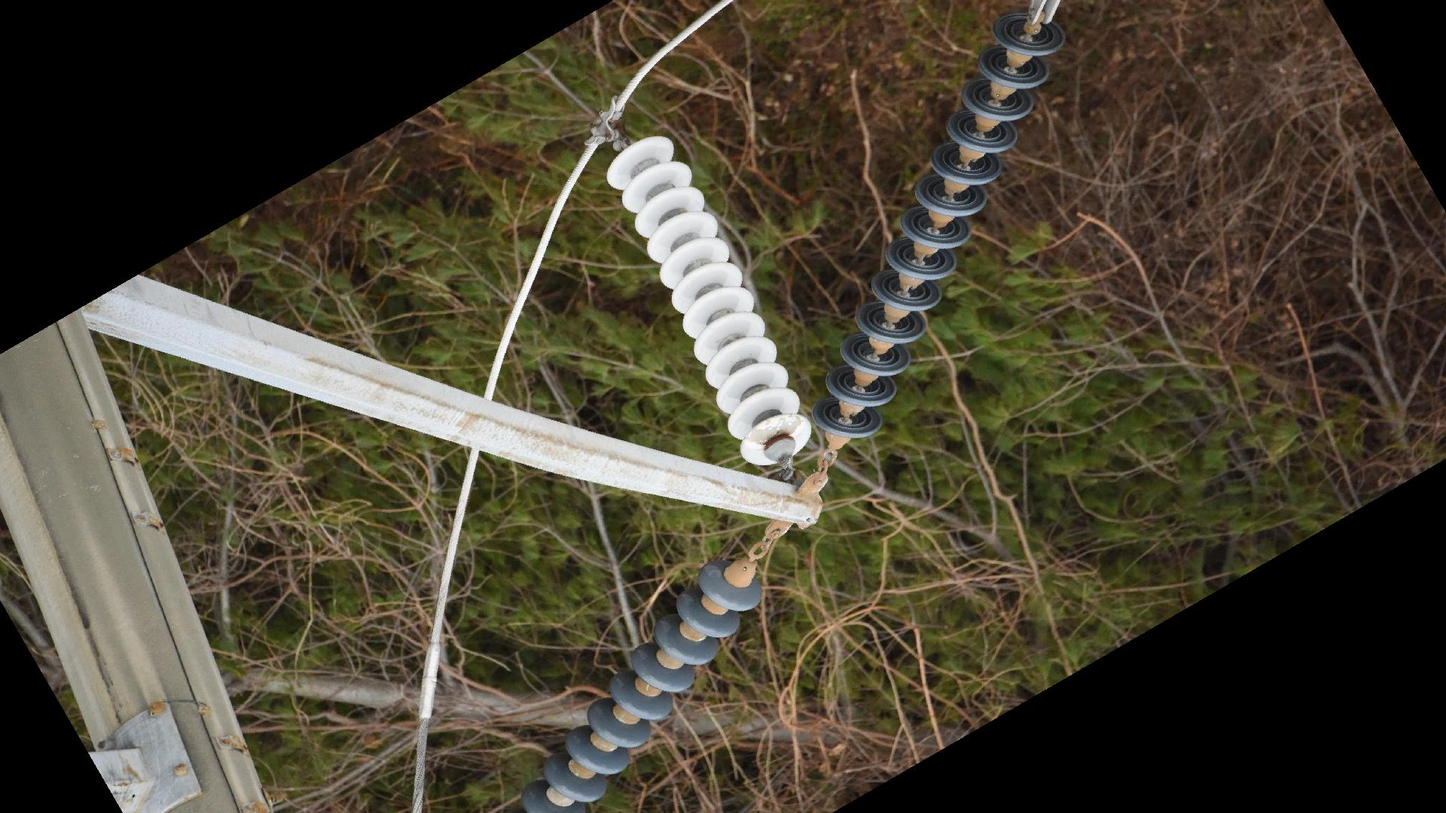insulator: (810, 6, 1069, 440), (600, 132, 816, 470), (518, 556, 765, 813)
insulator_flashover: (743, 412, 804, 446)
